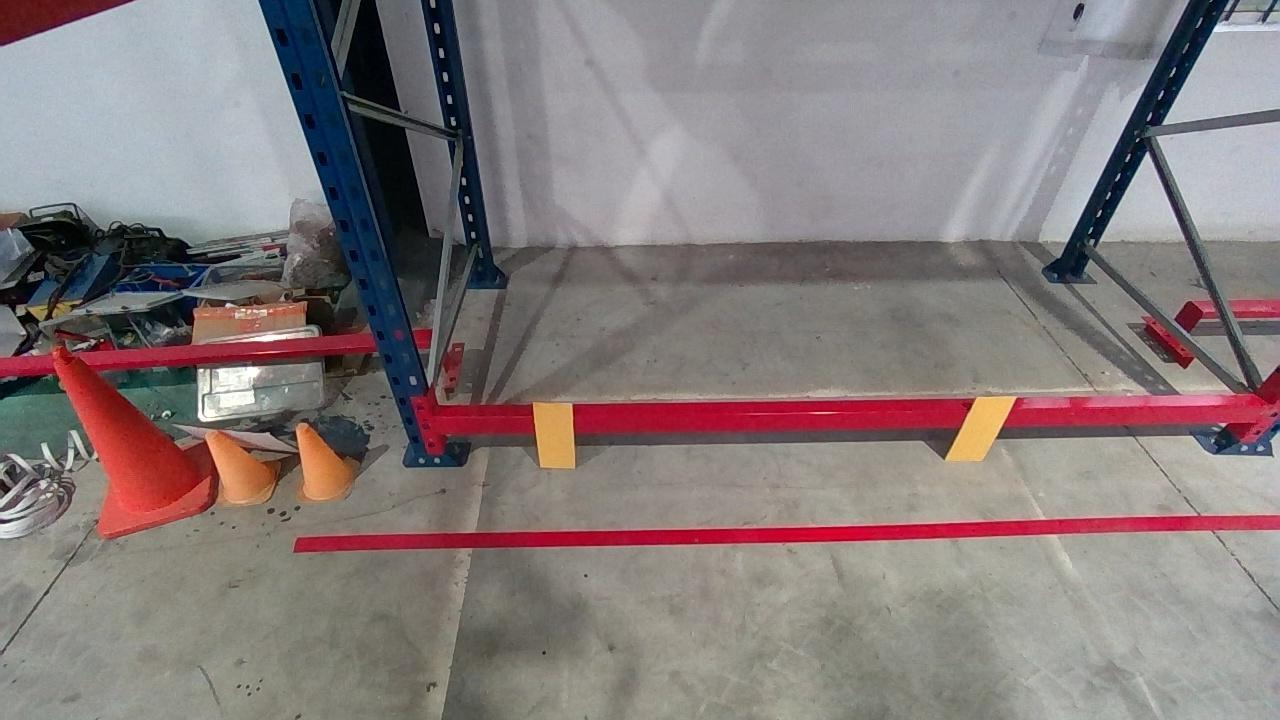h_rack: (437, 405, 1269, 436)
orange_strip: (943, 394, 1020, 460), (532, 403, 575, 466)
red_line: (288, 514, 1275, 549)
